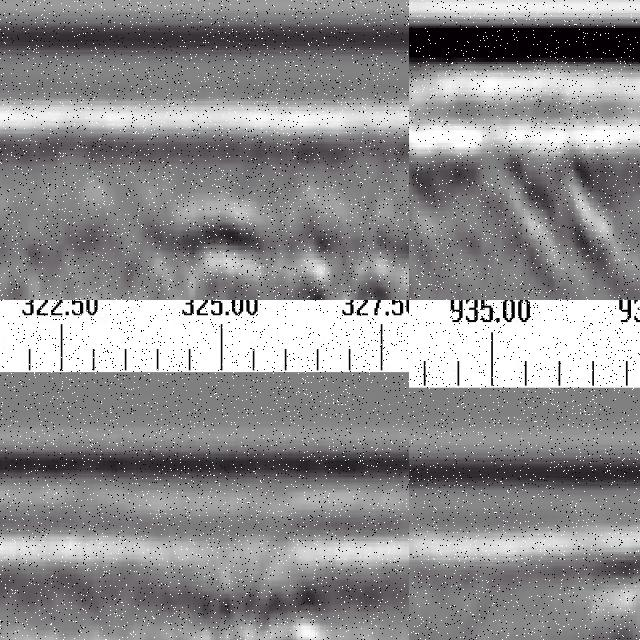loose: (410, 114, 625, 289), (182, 206, 410, 301), (172, 565, 348, 640)
